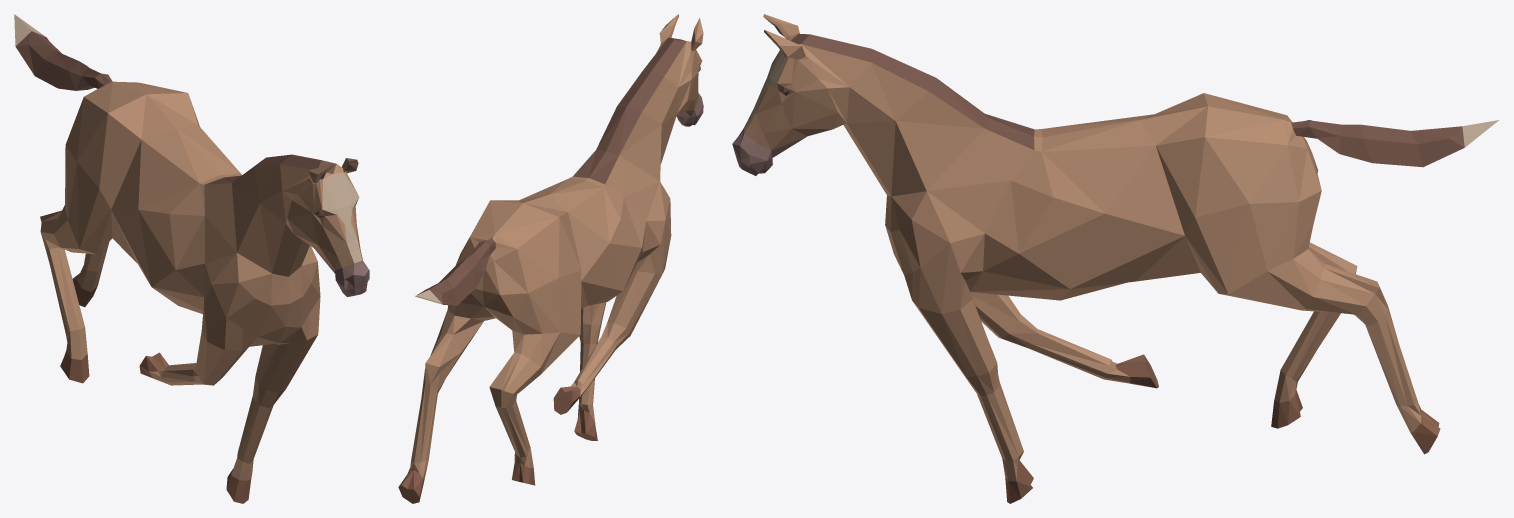
File: Horse.glb
The picture shows the model from 3 angles, left to right: view 1: azimuth 30°, elevation 25°; view 2: azimuth 150°, elevation 25°; view 3: azimuth 270°, elevation 25°; orthographic projection. The views are drawn at different scales.
Visible parts, largest first — view 1: mesh_0; view 2: mesh_0; view 3: mesh_0.
Part boxes in pixels (x1,y1,x2,y2): mesh_0: (14,14,369,503); mesh_0: (398,14,703,503); mesh_0: (732,14,1498,503).
Bounding box in the file's own units: 65.88 × 200 × 291.
